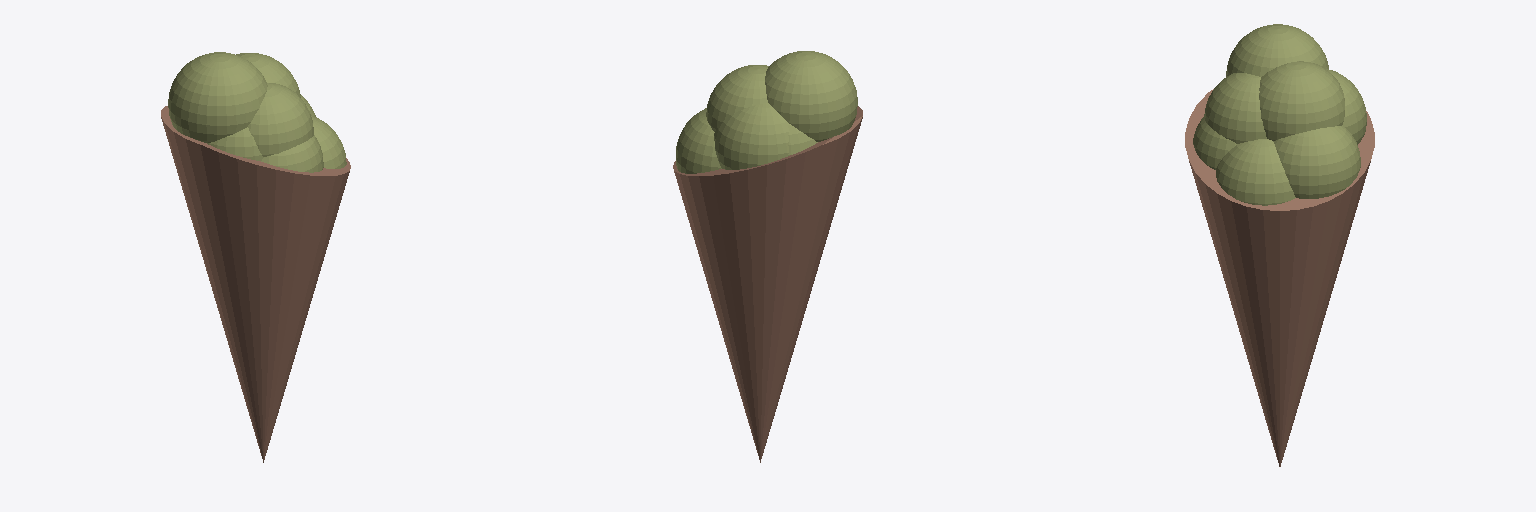
File: icecream2.obj
The picture shows the model from 3 angles: view 1: azimuth 30°, elevation 25°; view 2: azimuth 150°, elevation 25°; view 3: azimuth 270°, elevation 25°; orthographic projection.
Parts seen in each view (by area): view 1: Cone, Sphere.008, Sphere.006, Sphere.001, Sphere.004, Sphere.005, Sphere; view 2: Cone, Sphere.008, Sphere.007, Sphere.005, Sphere.003; view 3: Cone, Sphere.005, Sphere.003, Sphere.004, Sphere.008, Sphere.006, Sphere.007, Sphere.001.
Boxes of the visible parts, <box> form: Cone: <box>161,106,350,462</box>; Sphere.008: <box>168,52,267,142</box>; Sphere.006: <box>248,83,313,156</box>; Sphere.001: <box>261,135,323,172</box>; Sphere.004: <box>311,115,346,168</box>; Sphere.005: <box>236,53,300,97</box>; Sphere: <box>207,127,263,160</box>; Cone: <box>673,106,862,462</box>; Sphere.008: <box>765,51,857,141</box>; Sphere.007: <box>714,103,789,169</box>; Sphere.005: <box>706,65,768,131</box>; Sphere.003: <box>676,108,721,173</box>; Cone: <box>1185,89,1374,466</box>; Sphere.005: <box>1259,61,1344,140</box>; Sphere.003: <box>1273,126,1360,198</box>; Sphere.004: <box>1216,139,1295,205</box>; Sphere.008: <box>1226,24,1328,76</box>; Sphere.006: <box>1204,73,1266,143</box>; Sphere.007: <box>1326,69,1366,144</box>; Sphere.001: <box>1193,117,1236,169</box>.
Size of the model in its own units: 1.47 by 3.55 by 1.46.